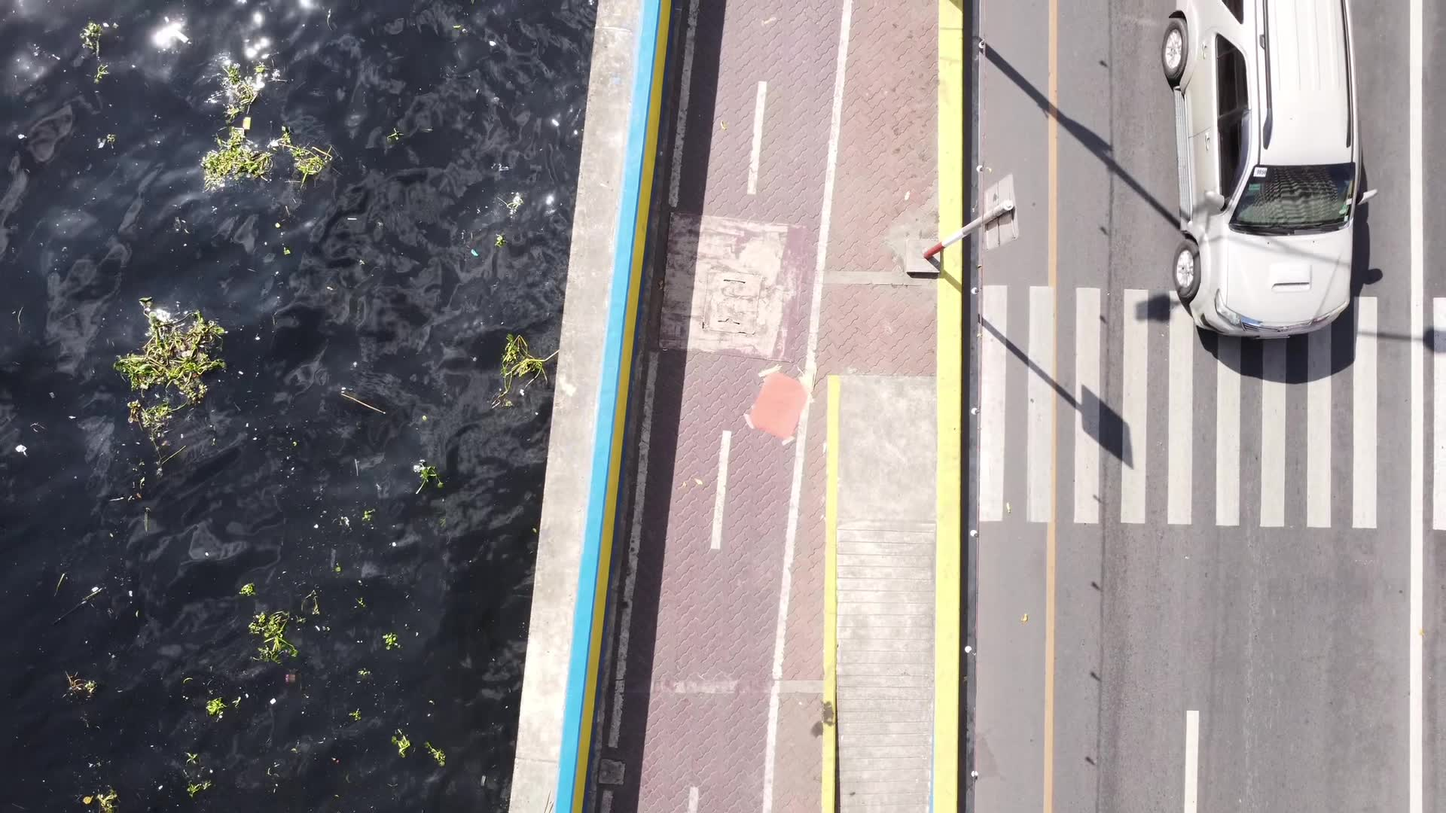Lixo: (219, 568, 430, 777), (199, 62, 329, 192), (115, 299, 229, 416), (129, 398, 194, 480), (493, 334, 554, 407), (214, 58, 270, 122), (248, 609, 300, 664), (491, 192, 532, 249), (183, 749, 215, 798), (81, 23, 109, 78), (387, 126, 428, 150), (64, 671, 98, 699), (85, 787, 120, 812), (414, 463, 443, 492), (205, 696, 227, 719), (503, 193, 524, 217), (305, 589, 320, 614), (383, 632, 400, 650), (101, 134, 117, 149), (238, 583, 255, 596), (362, 509, 375, 524), (494, 233, 507, 247)
urbano: (558, 13, 1306, 813)
